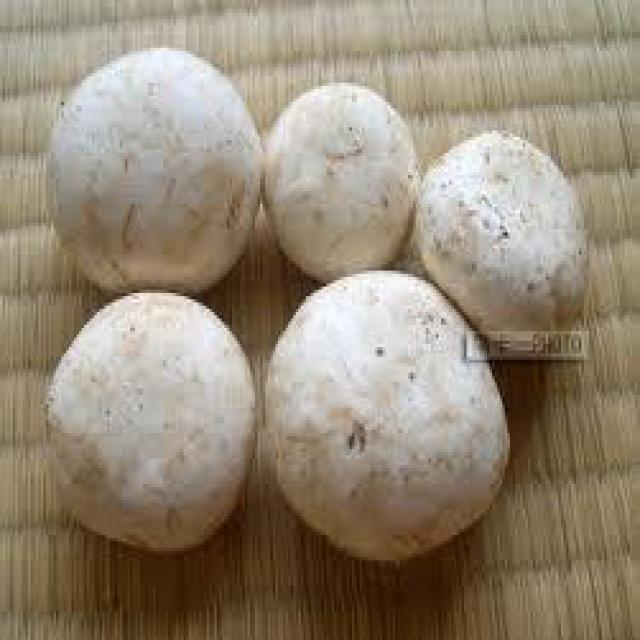Agaricus bisporus: (266, 269, 511, 569), (46, 289, 254, 550), (44, 52, 261, 301), (421, 129, 590, 367), (263, 76, 420, 277)
